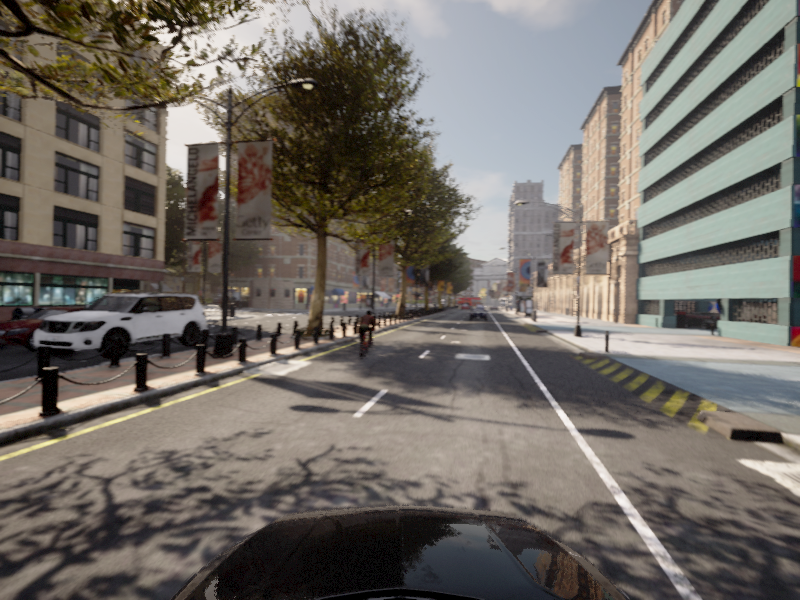vehicle: (22, 289, 214, 364), (1, 305, 138, 354), (350, 309, 381, 362), (469, 307, 487, 320)
